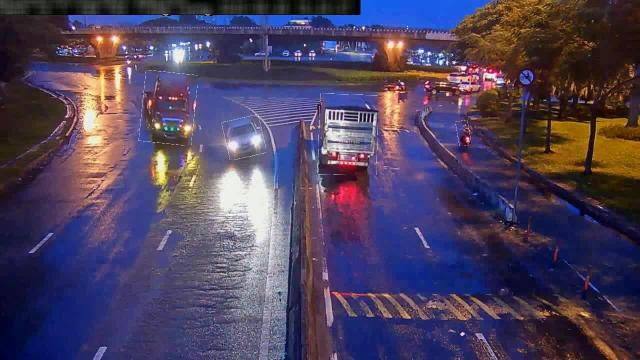Bike: (457, 121, 471, 147)
Car: (223, 116, 264, 160)
Truck: (318, 94, 378, 176), (140, 72, 196, 144)
